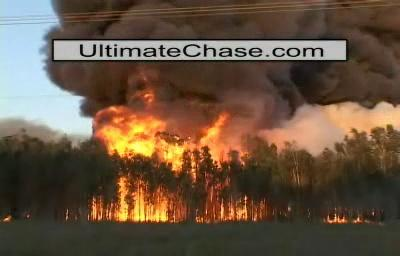fire: (71, 4, 393, 105), (109, 120, 236, 222)
